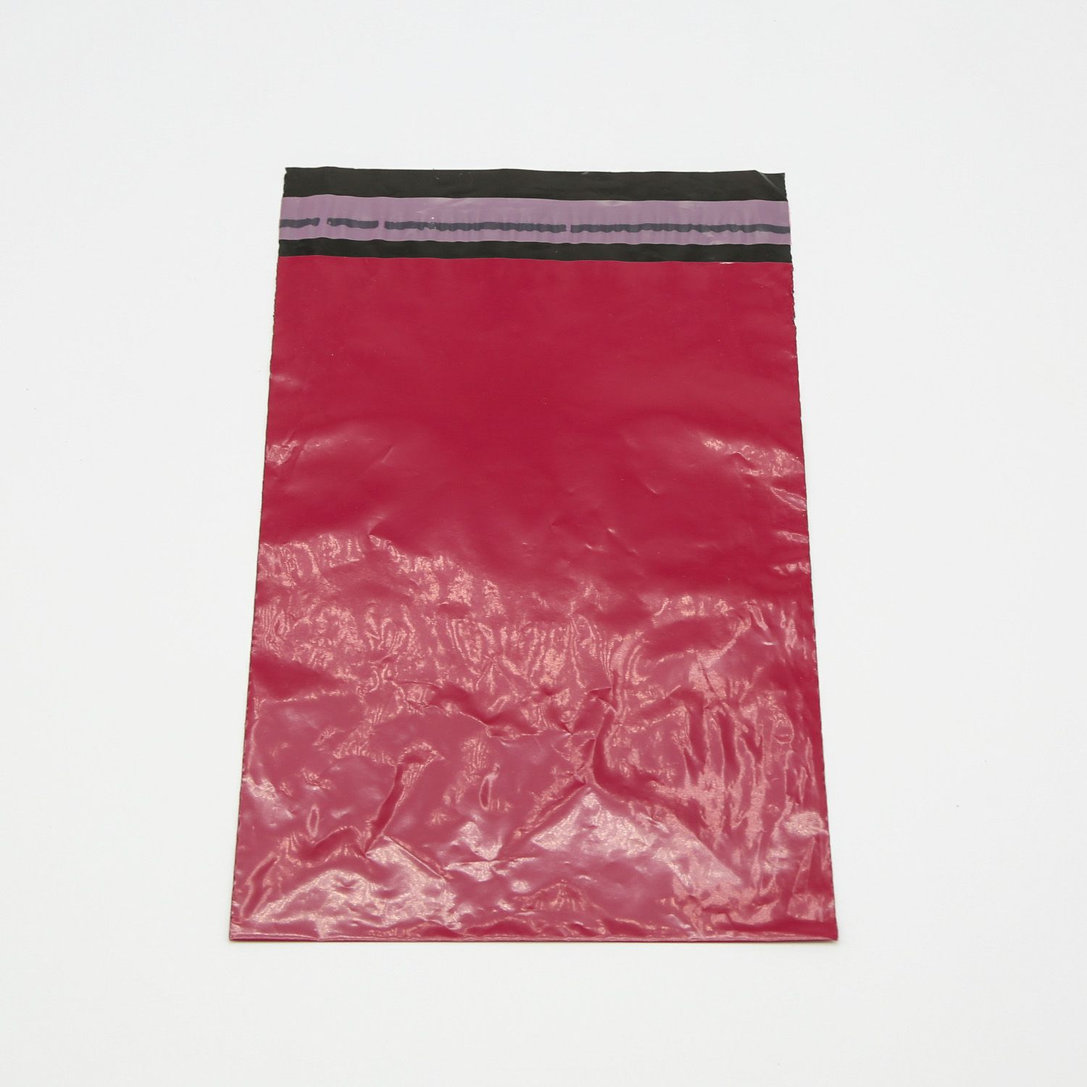塑料袋: (231, 171, 837, 942)
